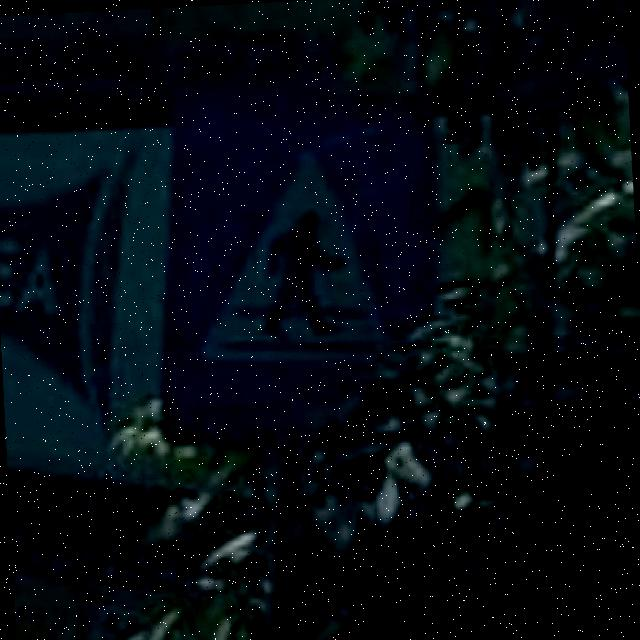Przejscie dla pieszych: (142, 90, 436, 337)
